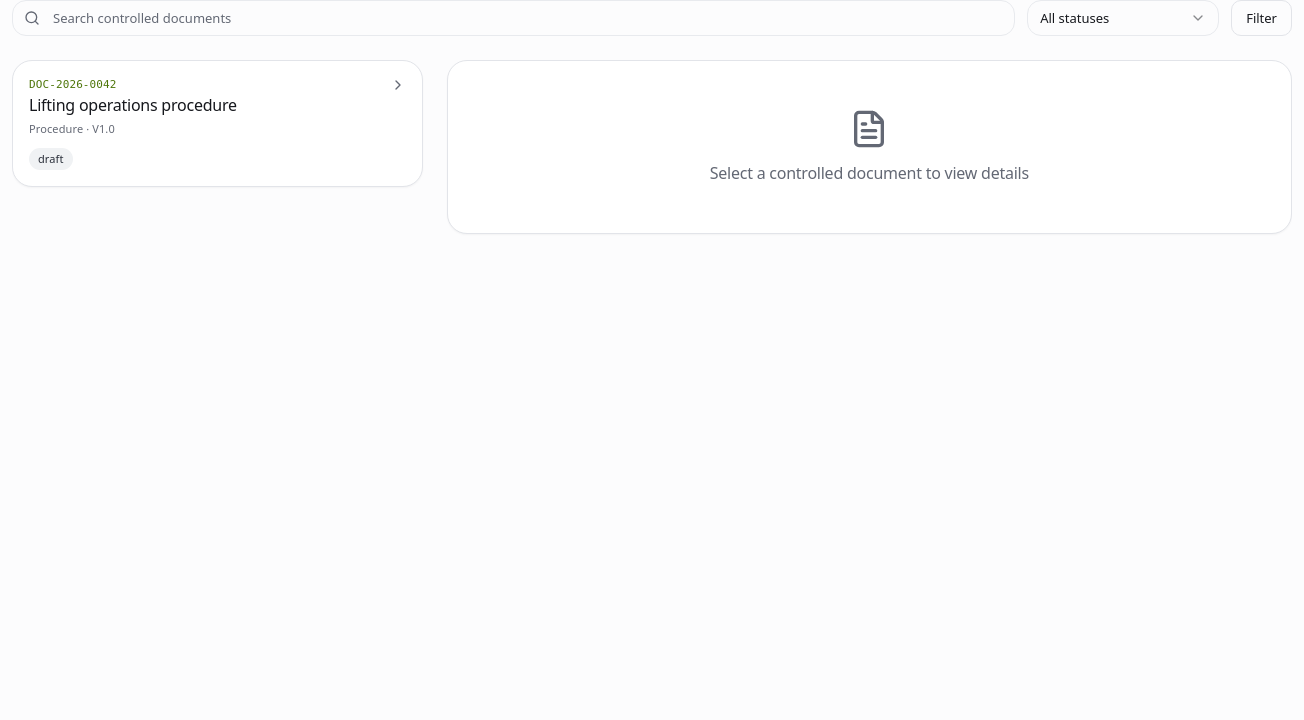
Document Control distribution list › discloses that the view was not written to the access log
Click the text "Lifting operations procedure" at (133, 105), box [29,93,237,117]
(page scrolled)
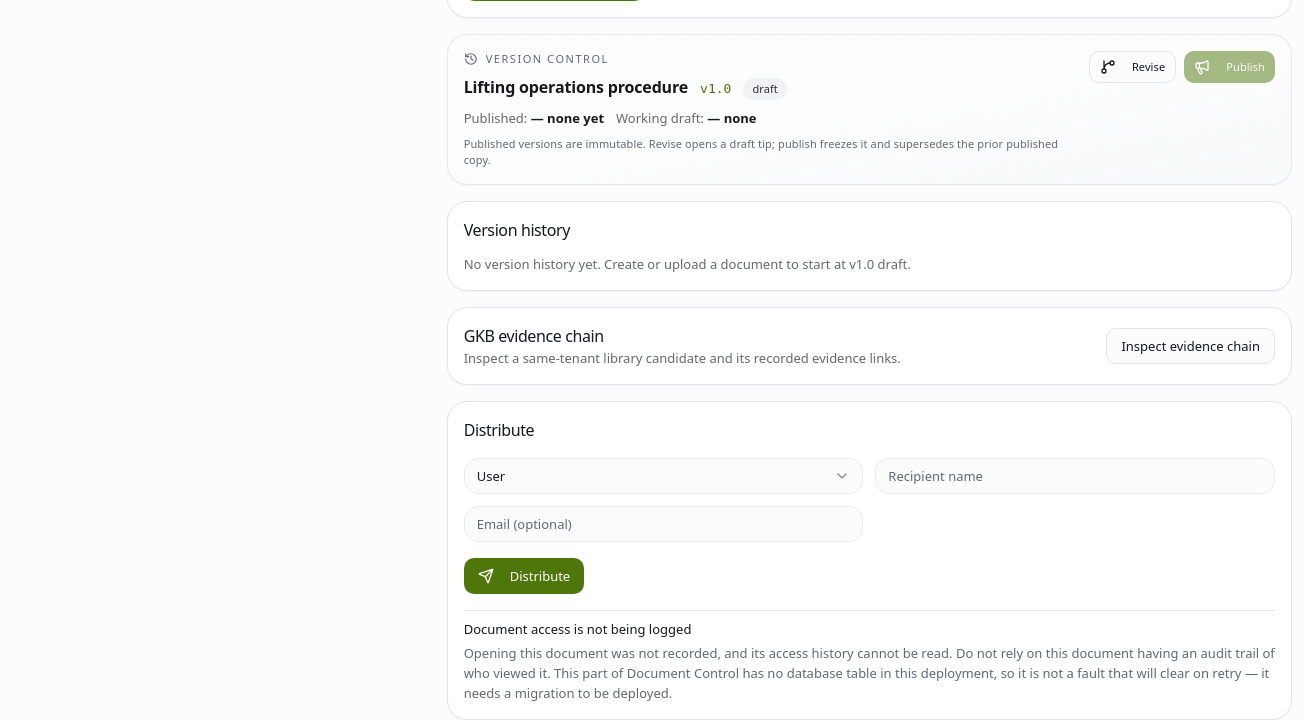
Expected: the message with test id "document-control-access-log-unavailable" shows "not recorded", [464,644,1275,702]
Expected: the message with test id "document-control-access-log-unavailable" shows "audit trail", [464,644,1275,702]
